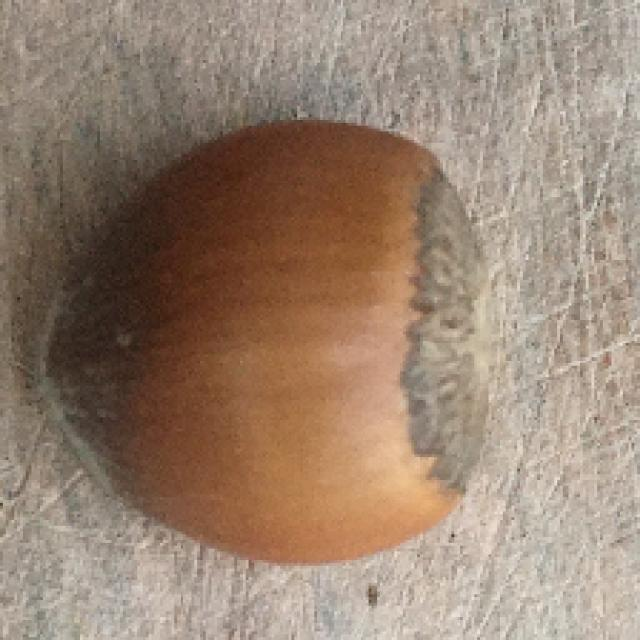DamagedHazelnut: (42, 118, 495, 561)
